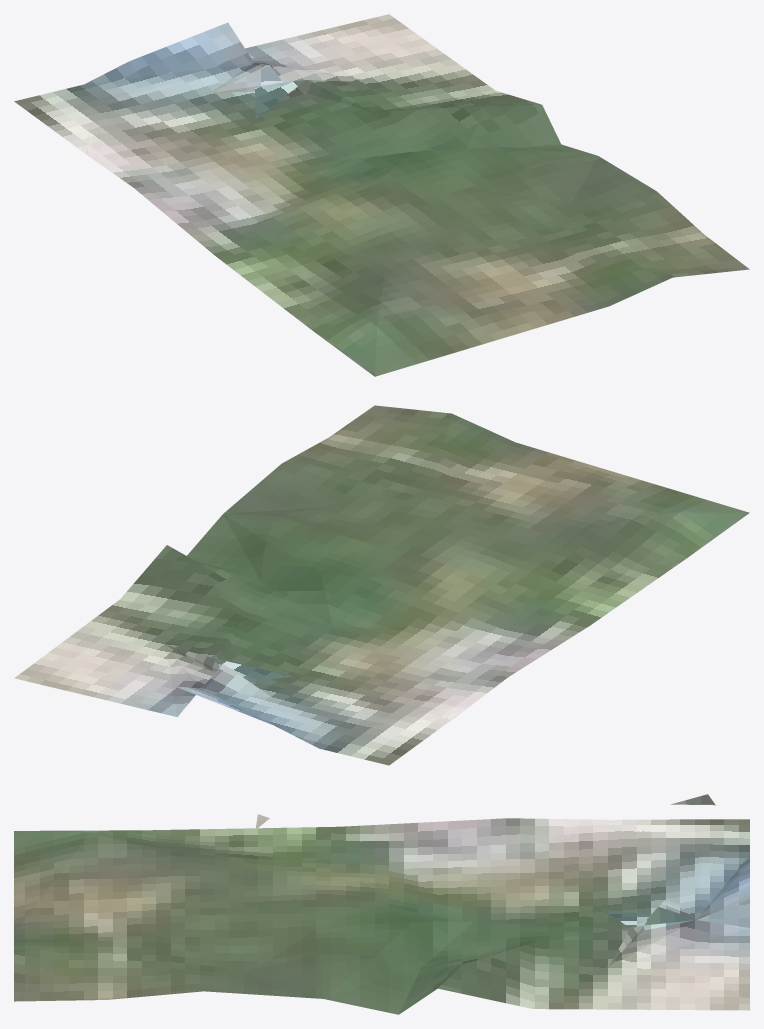
File: Tile__000__003_L15_0.glb
3 views of the same model, one above another, from view 1: azimuth 30°, elevation 25°; view 2: azimuth 150°, elevation 25°; view 3: azimuth 270°, elevation 25° (orthographic).
Visible parts, largest first — view 1: root; view 2: root; view 3: root.
Boxes of the visible parts, box(x1,y1,x2,y2) form: root: box(14, 14, 749, 376); root: box(14, 405, 749, 765); root: box(14, 794, 749, 1014).
Size of the model in its own units: 60.71 by 5.89 by 101.
Materials: 1 (1 with a texture image).
